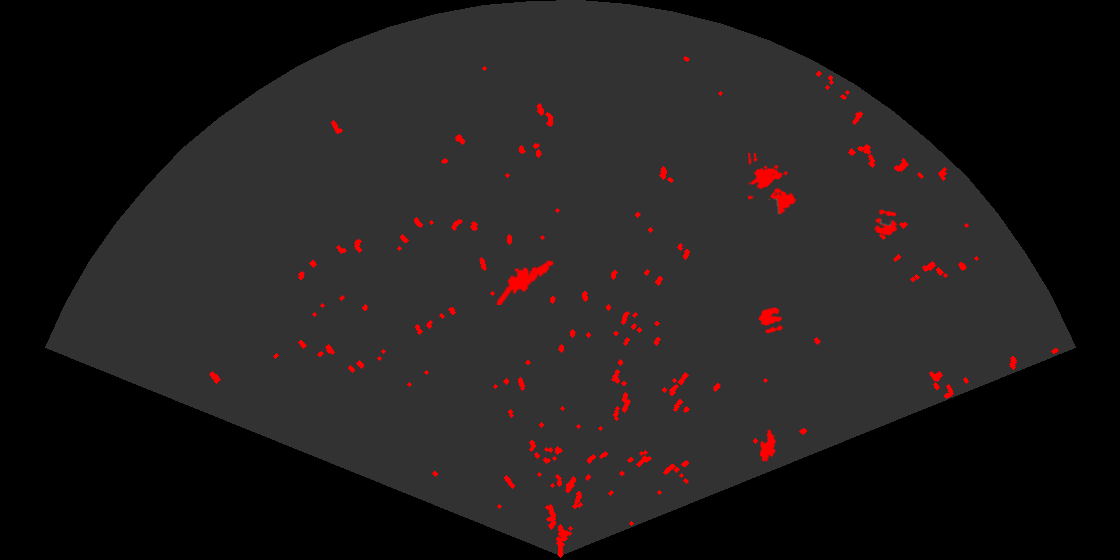AUV: (758, 427, 776, 463)
ball: (757, 306, 785, 335), (872, 208, 899, 237)
cage: (748, 153, 798, 216)
frogman: (497, 255, 556, 305)
